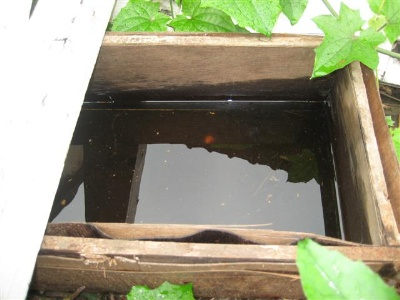box: (35, 32, 400, 298)
